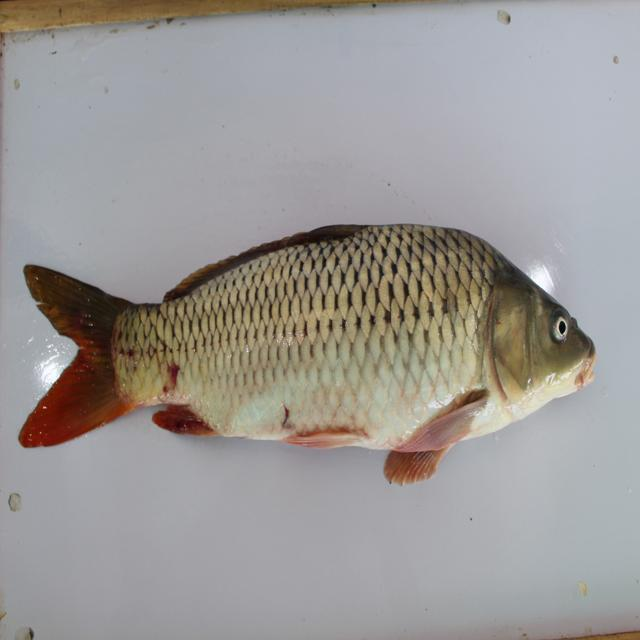CommonCarp: (11, 227, 616, 494)
